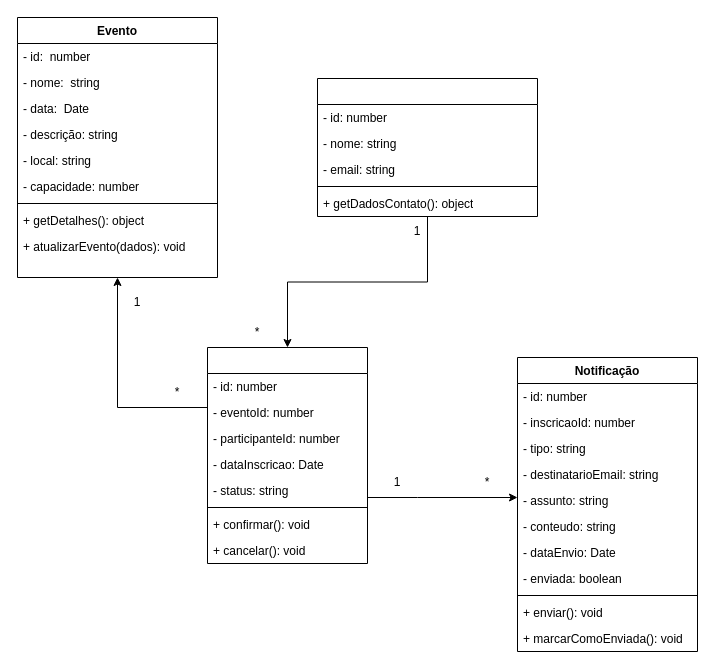
Image size: 715x672. Some labels were removed from this diagram. The box of each missing label's shape, as (x1, y1, x2, y2) in pixels:
Inscrição: (206, 346, 368, 564)
Participate: (316, 78, 538, 216)
